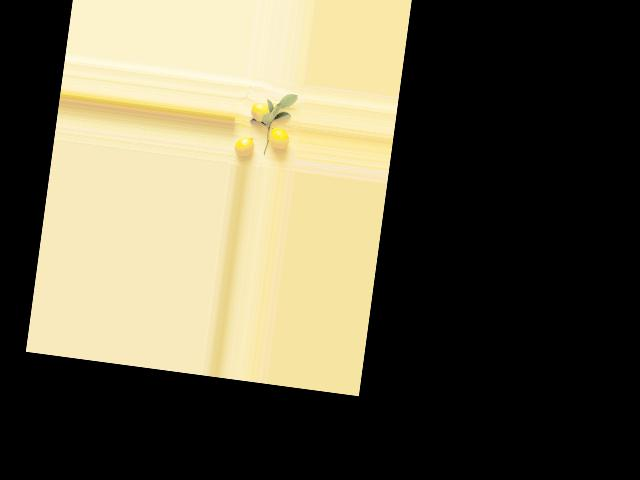lemon: (233, 133, 257, 161)
